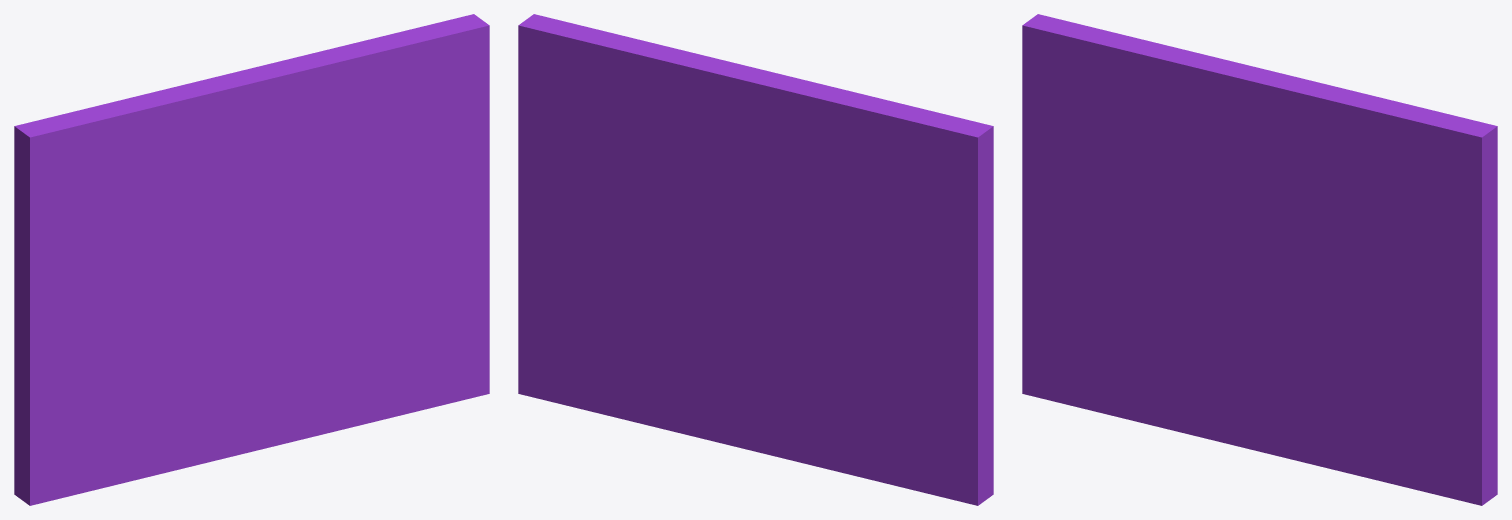
File: Barrier_139_chunks.fbx
3 views of the same model, side by side, from view 1: azimuth 30°, elevation 25°; view 2: azimuth 150°, elevation 25°; view 3: azimuth 330°, elevation 25° (orthographic).
Parts seen in each view (by area): view 1: Barrier_139_2, Barrier_139_1, Barrier_139_3, Barrier_139_0, Barrier_139_6, Barrier_139_5, Barrier_139_4; view 2: Barrier_139_2, Barrier_139_1, Barrier_139_6, Barrier_139_3, Barrier_139_4, Barrier_139_5, Barrier_139_0; view 3: Barrier_139_2, Barrier_139_1, Barrier_139_3, Barrier_139_0, Barrier_139_6, Barrier_139_5, Barrier_139_4.
Part boxes in pixels (x1=…): Barrier_139_2: x1=267, y1=14, x2=489, y2=429; Barrier_139_1: x1=14, y1=292, x2=343, y2=505; Barrier_139_3: x1=14, y1=94, x2=190, y2=261; Barrier_139_0: x1=14, y1=244, x2=268, y2=372; Barrier_139_6: x1=145, y1=36, x2=387, y2=182; Barrier_139_5: x1=160, y1=156, x2=321, y2=248; Barrier_139_4: x1=14, y1=224, x2=161, y2=284; Barrier_139_2: x1=518, y1=14, x2=741, y2=425; Barrier_139_1: x1=651, y1=263, x2=993, y2=505; Barrier_139_6: x1=609, y1=39, x2=847, y2=207; Barrier_139_3: x1=840, y1=89, x2=993, y2=256; Barrier_139_4: x1=814, y1=189, x2=989, y2=296; Barrier_139_5: x1=692, y1=183, x2=816, y2=276; Barrier_139_0: x1=914, y1=243, x2=993, y2=360; Barrier_139_2: x1=1259, y1=104, x2=1497, y2=505; Barrier_139_1: x1=1022, y1=260, x2=1335, y2=470; Barrier_139_3: x1=1022, y1=14, x2=1182, y2=175; Barrier_139_0: x1=1022, y1=142, x2=1260, y2=294; Barrier_139_6: x1=1169, y1=46, x2=1406, y2=186; Barrier_139_5: x1=1153, y1=149, x2=1314, y2=247; Barrier_139_4: x1=1082, y1=168, x2=1153, y2=199.
Bounding box in the file's own units: 376 × 288 × 22.1.
